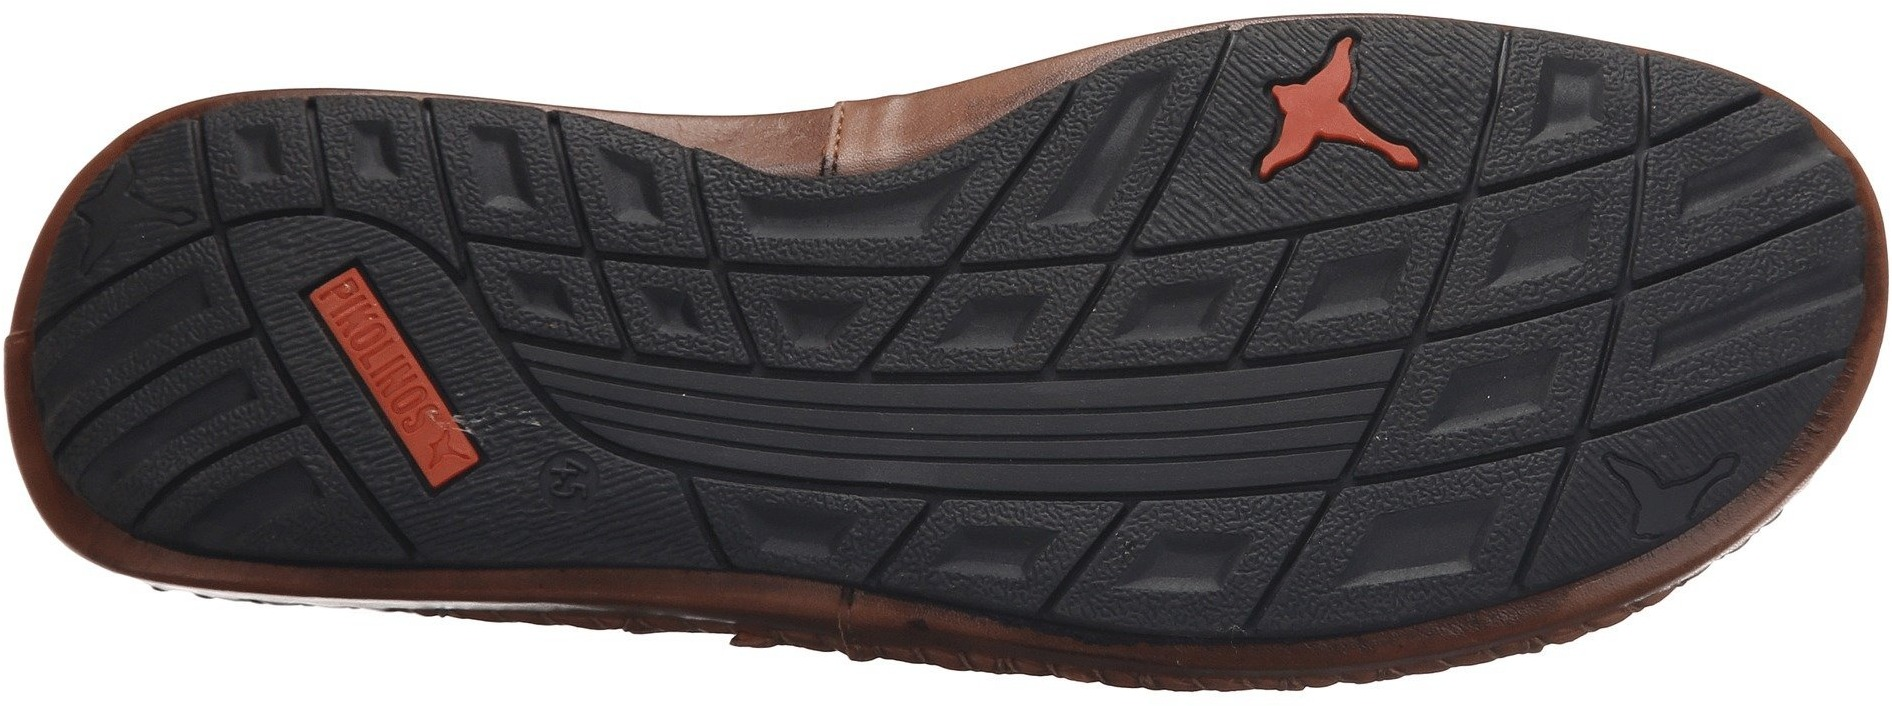circle: (532, 448, 606, 514)
line: (1202, 354, 1357, 494), (1055, 369, 1205, 504), (757, 372, 897, 490), (630, 360, 757, 482)
other: (1234, 16, 1442, 212)
quad: (890, 142, 1132, 375), (519, 145, 738, 357), (1307, 419, 1523, 628)
text: (541, 459, 592, 504)
